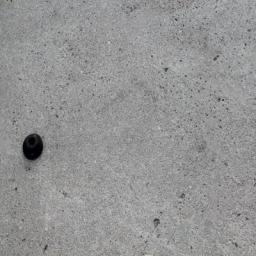FOD: (21, 132, 47, 162)
